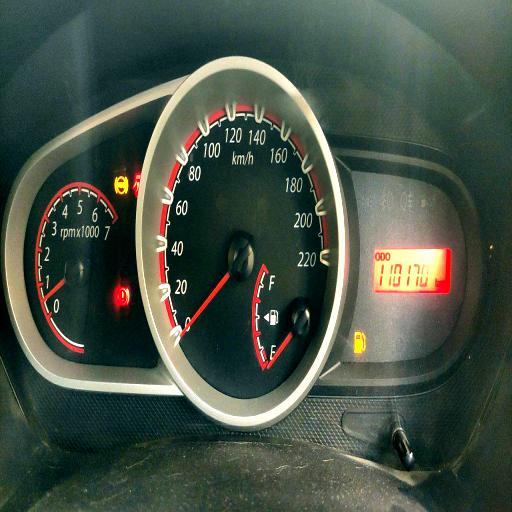brake_system_fault: (116, 286, 128, 306)
tachometer: (36, 178, 118, 355)
